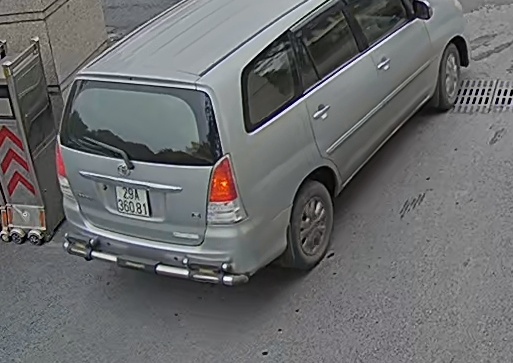vehicle plate: (114, 179, 149, 217)
